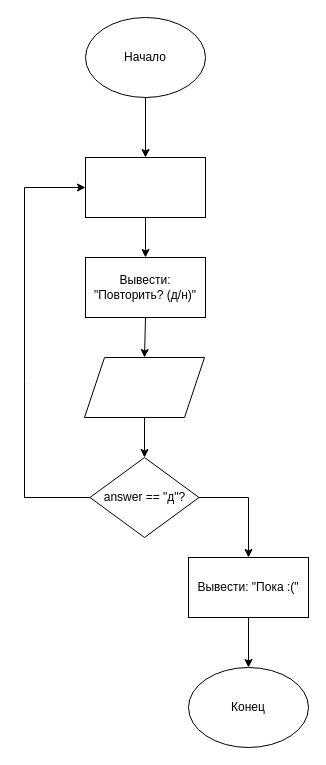
This 326x765 diagram has some shape labels left out. The box of each missing label's shape, as (x1, y1, x2, y2) in pixels:
Ввод answer: (84, 356, 204, 418)
Вывести: "Привет! :)": (84, 156, 206, 218)
